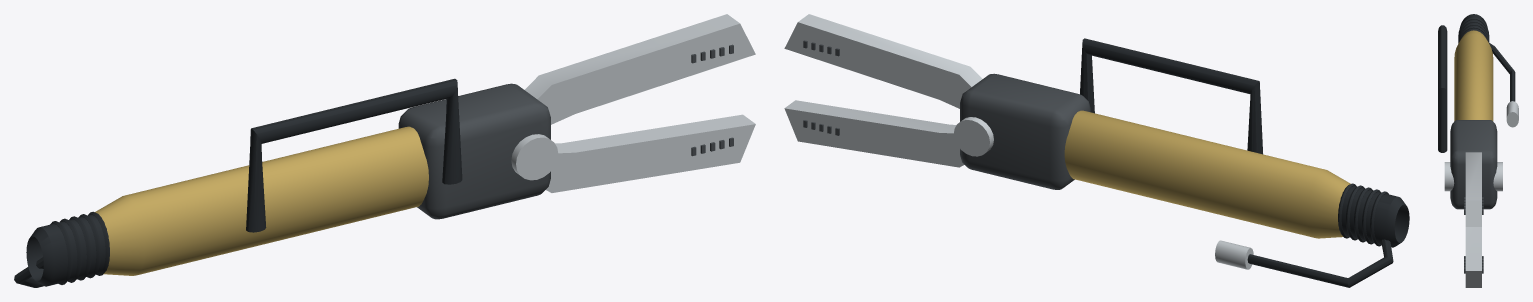
The model's file is ob_hydraulic_spreader.glb.
3 views of the same model, side by side, from view 1: azimuth 30°, elevation 25°; view 2: azimuth 150°, elevation 25°; view 3: azimuth 270°, elevation 25° (orthographic). The views are drawn at different scales.
Parts seen in each view (by area): view 1: ob_hydraulic_spreader; view 2: ob_hydraulic_spreader; view 3: ob_hydraulic_spreader.
Boxes of the visible parts, box(x1,y1,x2,y2) form: ob_hydraulic_spreader: box(14, 14, 755, 287); ob_hydraulic_spreader: box(784, 14, 1409, 287); ob_hydraulic_spreader: box(1438, 14, 1518, 287).
Size of the model in its own units: 0.84 by 0.19 by 0.13.
